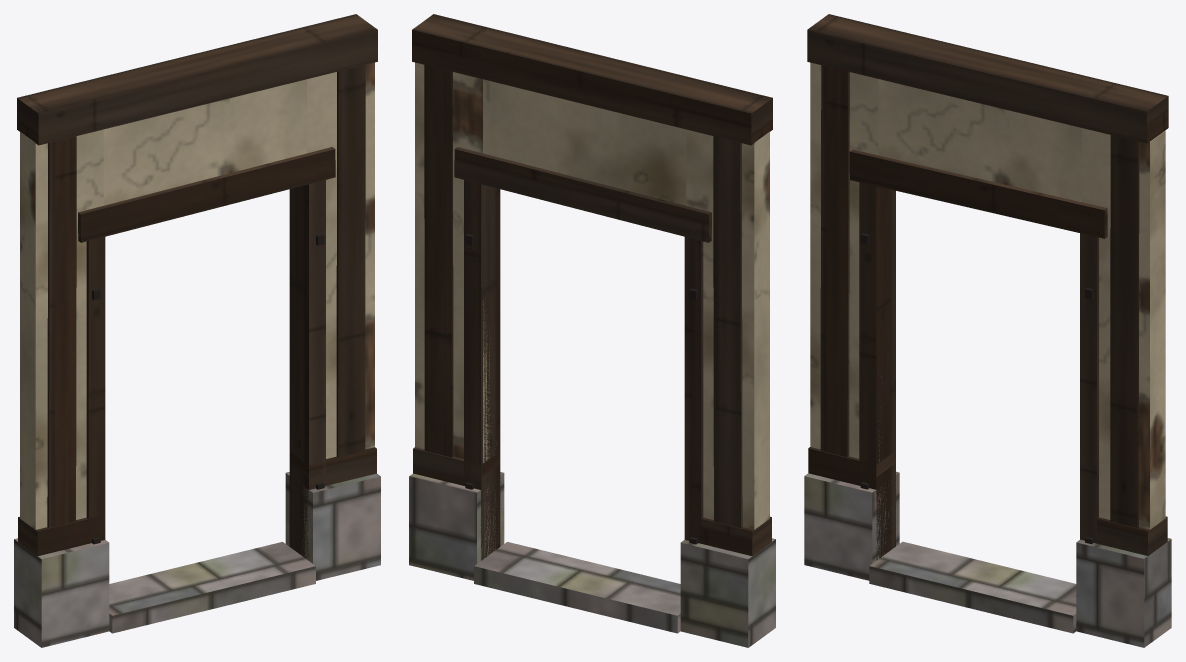
File: wall_door.gltf
The picture shows the model from 3 angles, left to right: view 1: azimuth 30°, elevation 25°; view 2: azimuth 150°, elevation 25°; view 3: azimuth 330°, elevation 25°; orthographic projection.
Parts seen in each view (by area): view 1: wall_door; view 2: wall_door; view 3: wall_door.
Part boxes in pixels (x1,y1,x2,y2): wall_door: (14, 14, 380, 647); wall_door: (409, 14, 775, 647); wall_door: (804, 14, 1171, 647).
Size of the model in its own units: 2 by 3 by 0.34.
Materials: 2 (1 with a texture image).
